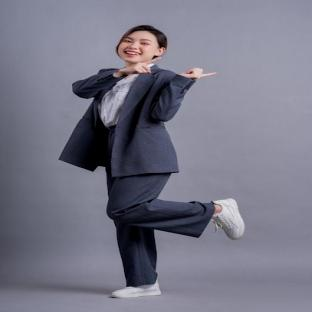Human: (59, 25, 244, 298)
